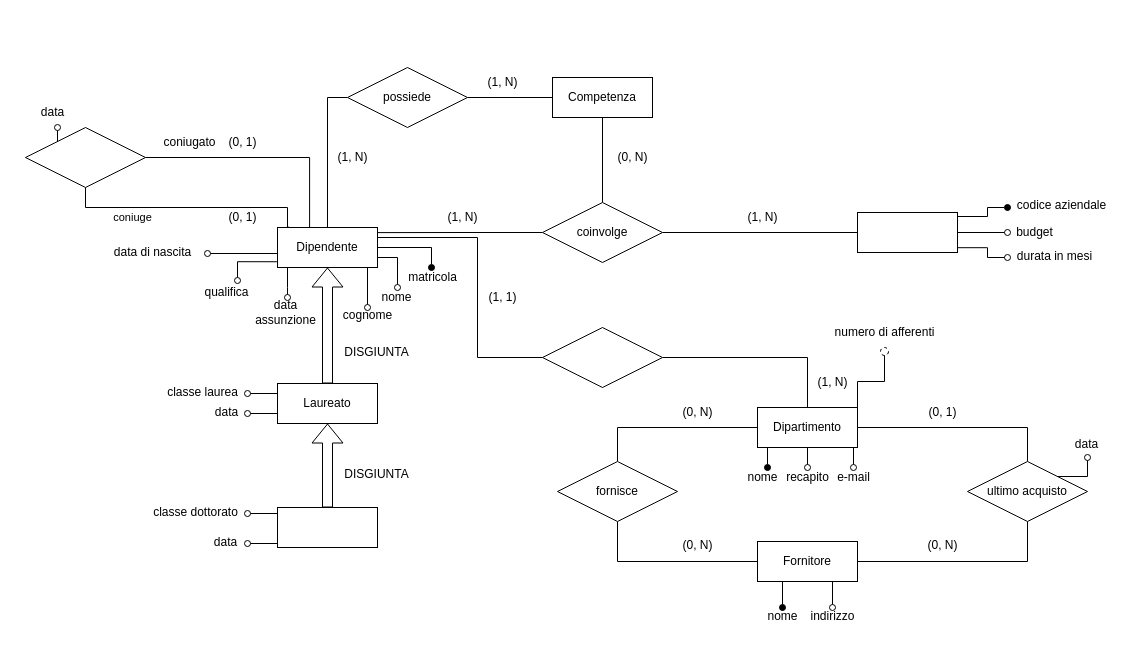
Some shapes in this 1134 by 649 pixel diagram are drawn without their labels. The centre of each missing label's shape, as x and y in pixels:
afferisce: (602,357)
Dottorato: (327,527)
matrimonio: (85,157)
Progetto: (907,232)
